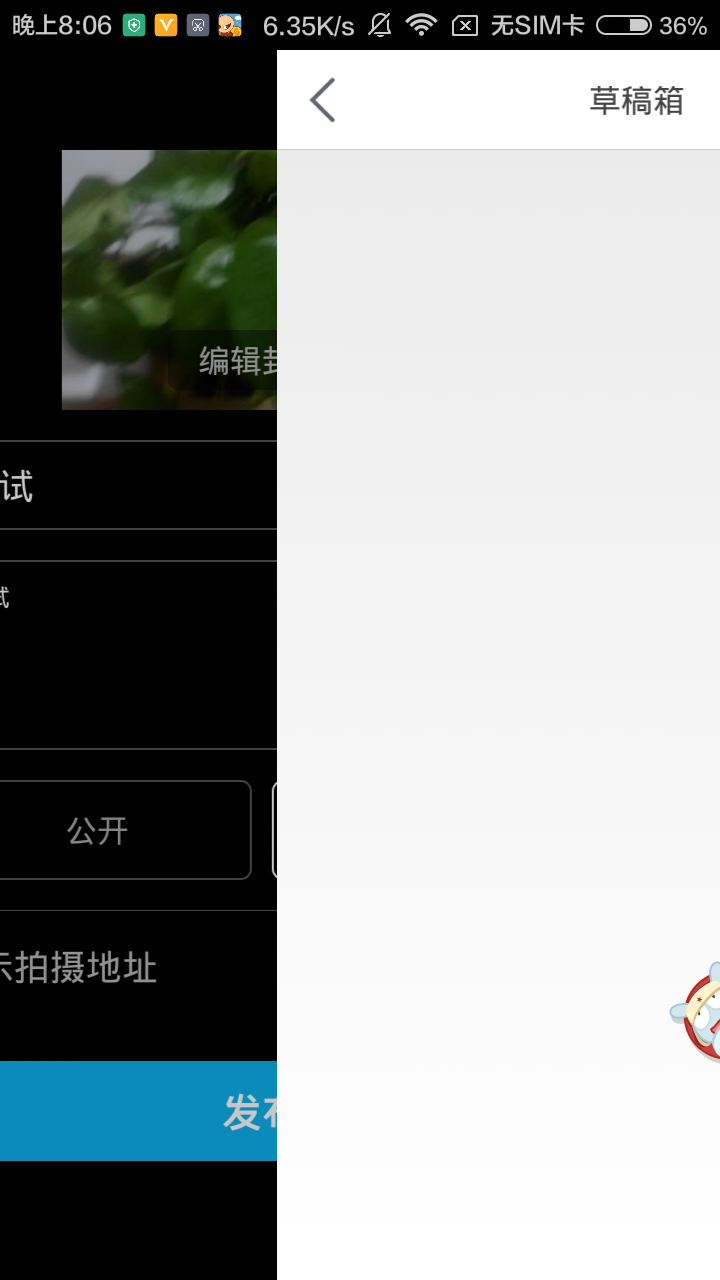imgbutton: (302, 60, 351, 134)
